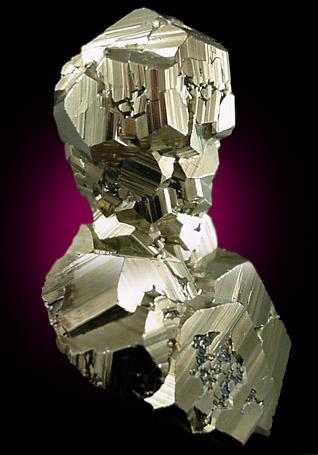pyrite: (41, 8, 291, 444)
